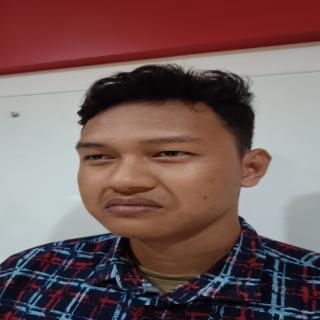Sedih: (63, 102, 254, 242)
